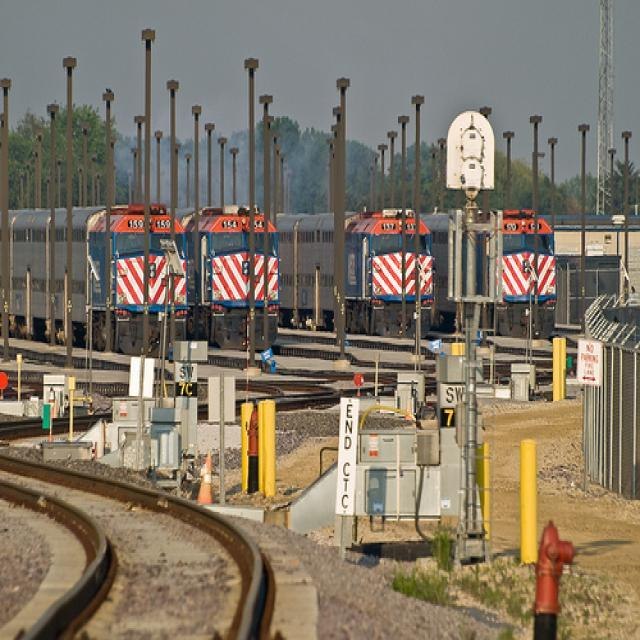fire_hydrant: (534, 520, 578, 616), (246, 403, 258, 491)
